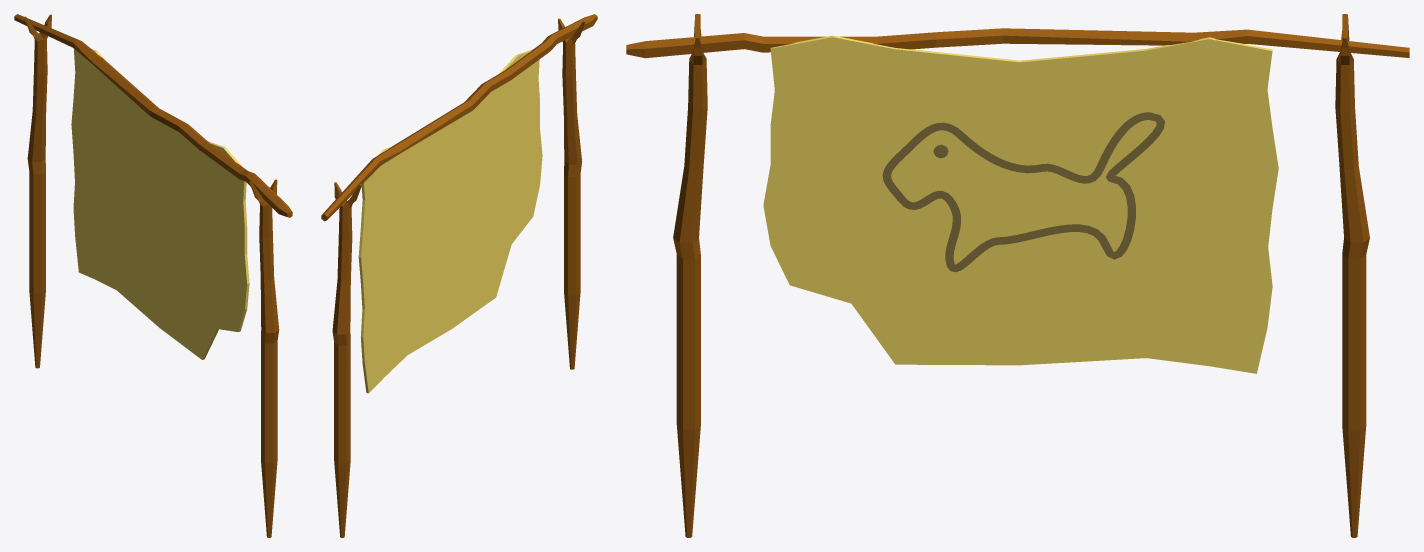
File: Tasks_first_level.fbx
3 views of the same model, side by side, from view 1: azimuth 30°, elevation 25°; view 2: azimuth 150°, elevation 25°; view 3: azimuth 270°, elevation 25° (orthographic). The views are drawn at different scales.
Visible parts, largest first — view 1: Cube, Cylinder.001; view 2: Cube, Cylinder.001; view 3: Cube, Cylinder.001, BézierCurve.
Boxes of the visible parts, box(x1,y1,x2,y2) form: Cube: box(71, 48, 249, 359); Cylinder.001: box(14, 14, 292, 537); Cube: box(358, 49, 542, 393); Cylinder.001: box(321, 14, 597, 537); Cube: box(763, 35, 1278, 373); Cylinder.001: box(626, 14, 1409, 537); BézierCurve: box(882, 112, 1164, 272).
Size of the model in its own units: 106 by 1336 by 1853.
